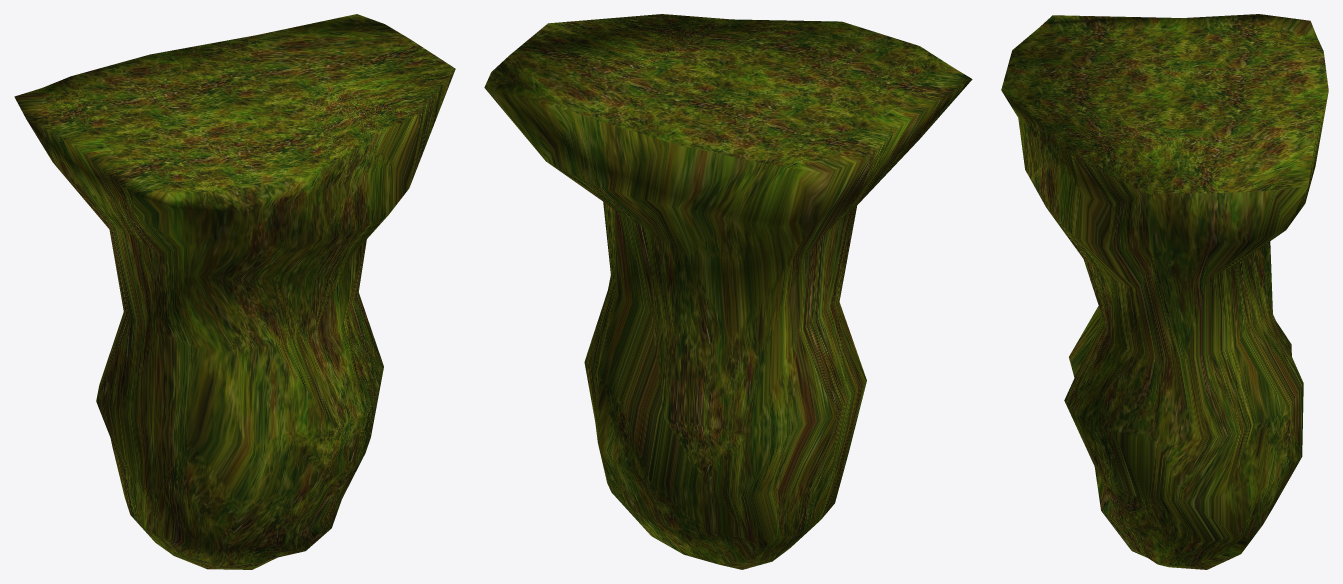
The model's file is LVL_ROAST_MUTTON_ROCK_PLATFORM.fbx.
3 renders of one model, left to right at view 1: azimuth 30°, elevation 25°; view 2: azimuth 150°, elevation 25°; view 3: azimuth 270°, elevation 25°, orthographic. The views are drawn at different scales.
Parts seen in each view (by area): view 1: LVL_ROAST_MUTTON_ROCK_PLATFORM; view 2: LVL_ROAST_MUTTON_ROCK_PLATFORM; view 3: LVL_ROAST_MUTTON_ROCK_PLATFORM.
Part boxes in pixels (x1,y1,x2,y2): LVL_ROAST_MUTTON_ROCK_PLATFORM: [14, 14, 455, 569]; LVL_ROAST_MUTTON_ROCK_PLATFORM: [484, 14, 972, 569]; LVL_ROAST_MUTTON_ROCK_PLATFORM: [1001, 14, 1328, 569].
Size of the model in its own units: 69847 by 82487 by 53574.
1 material, 1 textured.
